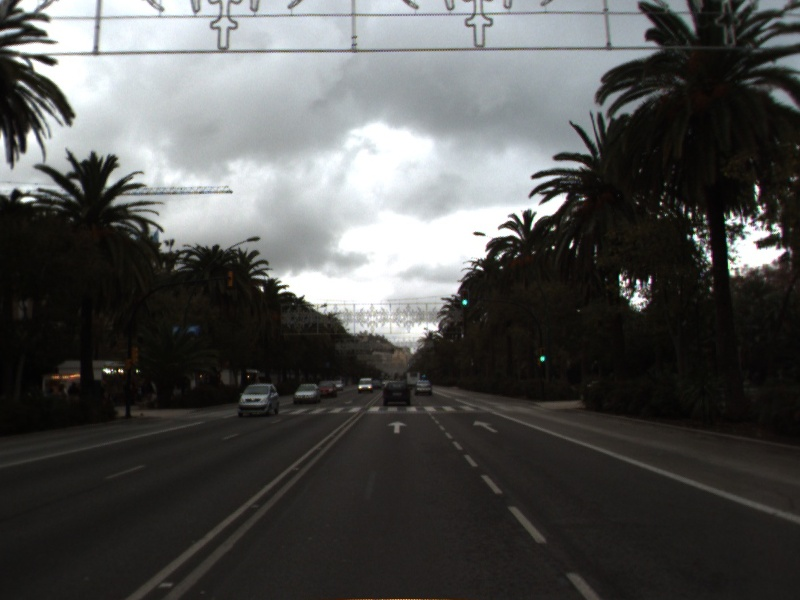STRAIGHT: (471, 418, 501, 435), (385, 419, 410, 435)
